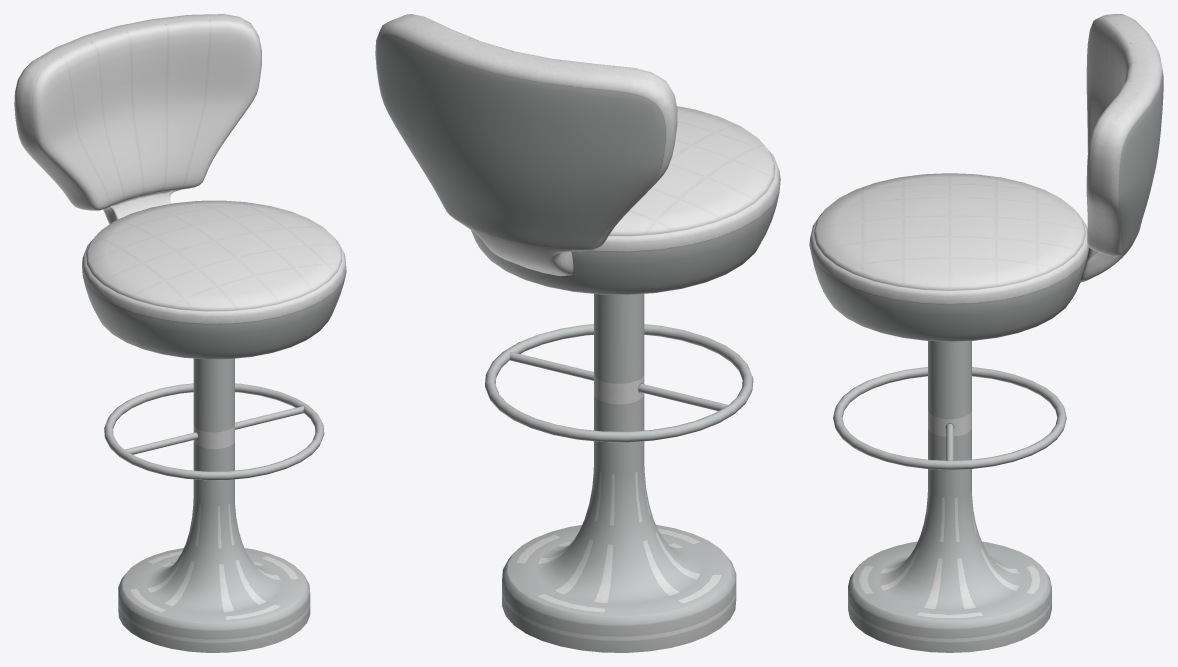
File: BarChair03.FBX
3 renders of one model, left to right at view 1: azimuth 30°, elevation 25°; view 2: azimuth 150°, elevation 25°; view 3: azimuth 270°, elevation 25°, orthographic. The views are drawn at different scales.
Visible parts, largest first — view 1: BarChair03; view 2: BarChair03; view 3: BarChair03.
Part boxes in pixels (box(x1,y1,x2,y2)): BarChair03: box(14, 14, 346, 652); BarChair03: box(375, 14, 780, 652); BarChair03: box(809, 14, 1163, 652).
Size of what is drawn, in the model's own units: 0.5657 by 1.15 by 0.6728.
